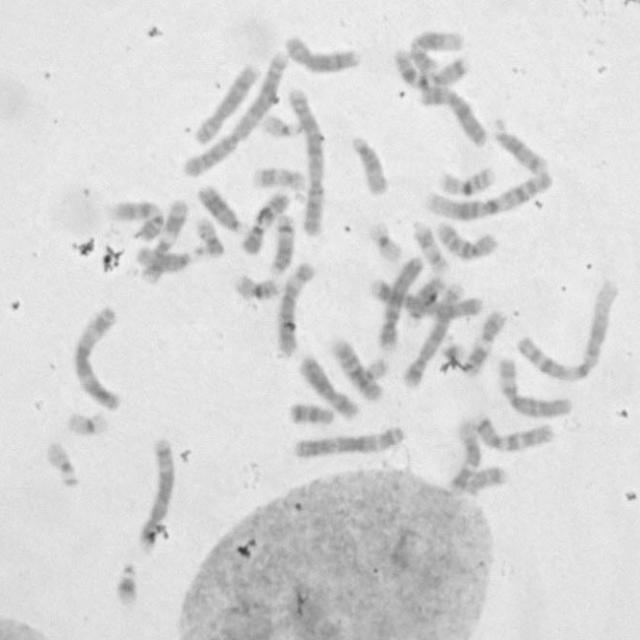A1: (515, 276, 619, 382), (424, 168, 554, 222)
A2: (177, 46, 290, 181), (285, 84, 327, 238)
A3: (68, 302, 125, 412), (290, 423, 405, 460)
B4: (366, 275, 484, 321), (374, 251, 424, 352)
B5: (399, 277, 460, 390), (135, 436, 177, 552)
C10: (328, 336, 385, 404), (432, 219, 498, 262)
C11: (140, 195, 190, 282), (462, 306, 507, 378)
C12: (444, 413, 482, 496), (406, 26, 465, 76)
C6: (494, 354, 574, 418), (273, 259, 317, 360)
C7: (469, 412, 555, 453), (392, 45, 471, 89)
C8: (189, 61, 260, 145), (282, 32, 362, 74)
C9: (238, 187, 292, 257), (108, 196, 166, 241)
D13: (192, 180, 246, 233), (403, 272, 448, 328)
D14: (489, 114, 548, 175), (266, 212, 296, 276)
D15: (348, 132, 391, 197), (132, 243, 204, 273)
E16: (435, 164, 497, 198), (231, 269, 282, 302)
E17: (408, 218, 450, 276), (250, 164, 306, 192)
E18: (463, 465, 508, 499), (286, 399, 336, 427)
F19: (366, 219, 403, 264), (62, 405, 110, 437)
F20: (192, 213, 225, 257), (354, 356, 392, 390)
G21: (112, 556, 140, 608), (438, 337, 467, 364)
G22: (42, 436, 80, 488), (258, 110, 303, 139)
X: (415, 82, 490, 150), (295, 352, 361, 422)
